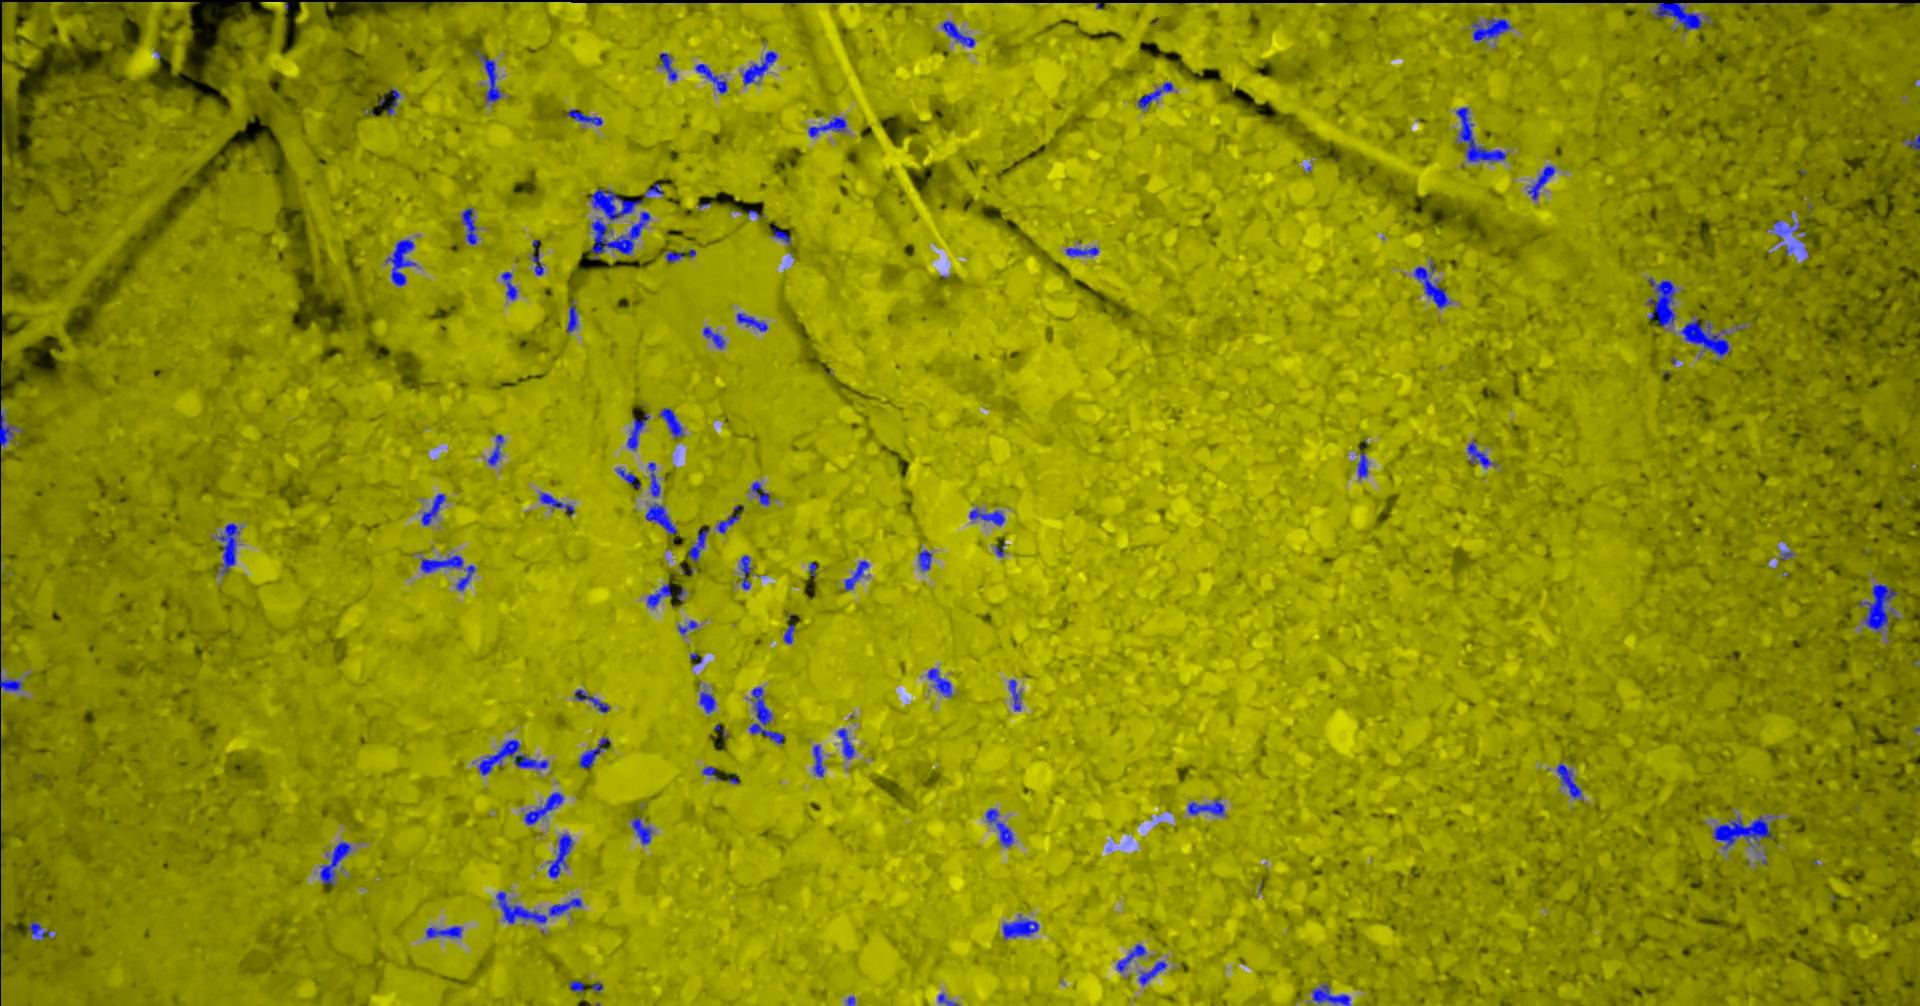ant: (590, 211, 650, 259), (495, 890, 582, 923), (1455, 107, 1507, 161), (477, 739, 549, 775), (1712, 815, 1775, 848), (748, 686, 783, 743), (1680, 318, 1730, 357), (1858, 583, 1896, 631), (1413, 262, 1450, 307), (1655, 0, 1709, 30), (590, 188, 643, 220), (1646, 277, 1675, 326), (385, 239, 415, 286), (319, 841, 350, 884), (523, 793, 563, 824), (742, 50, 776, 85), (217, 522, 240, 573), (985, 808, 1013, 847), (547, 833, 571, 878), (479, 55, 500, 102), (644, 502, 676, 533), (578, 737, 610, 768), (1556, 763, 1582, 800), (695, 64, 728, 93), (1528, 165, 1556, 199), (941, 20, 975, 47), (1137, 83, 1172, 108), (1470, 18, 1511, 39), (626, 412, 649, 450), (538, 492, 574, 516), (574, 688, 610, 713), (1116, 942, 1145, 972), (715, 504, 743, 533), (1002, 915, 1037, 937), (808, 116, 846, 136), (1310, 984, 1349, 1005), (659, 406, 683, 438), (422, 493, 444, 526), (687, 527, 709, 561), (419, 555, 463, 572), (1465, 439, 1491, 467), (926, 668, 951, 696), (844, 560, 869, 589), (1137, 960, 1166, 984), (1187, 798, 1225, 815), (1768, 220, 1798, 241), (0, 410, 18, 446), (969, 507, 1004, 525), (646, 583, 670, 608), (836, 727, 855, 758), (461, 208, 477, 244), (737, 312, 767, 332), (631, 815, 651, 843), (566, 109, 602, 124), (616, 467, 640, 488), (500, 271, 517, 300), (531, 239, 543, 276), (425, 925, 462, 937), (488, 434, 503, 465), (659, 52, 676, 80), (750, 481, 770, 506), (455, 565, 474, 589), (703, 326, 724, 348), (648, 462, 660, 495), (0, 671, 22, 690), (28, 921, 50, 940), (1008, 680, 1021, 710), (811, 744, 823, 776), (698, 691, 715, 713), (740, 555, 750, 589), (386, 88, 399, 114), (771, 226, 790, 244), (1065, 246, 1098, 257), (566, 298, 577, 332), (643, 183, 663, 197), (677, 620, 697, 634), (918, 550, 931, 572), (702, 766, 721, 780), (1357, 452, 1368, 478), (783, 619, 794, 643), (937, 993, 957, 1005), (665, 250, 683, 262), (569, 979, 583, 992), (1907, 133, 1919, 149)
